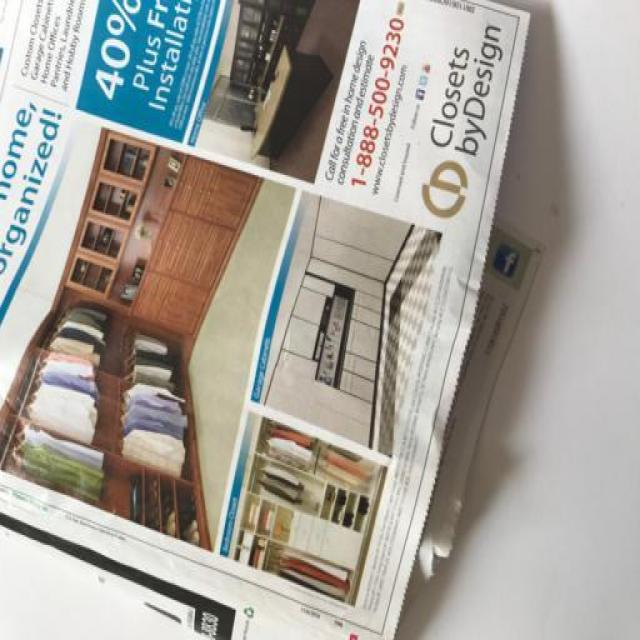paper: (1, 1, 541, 636)
